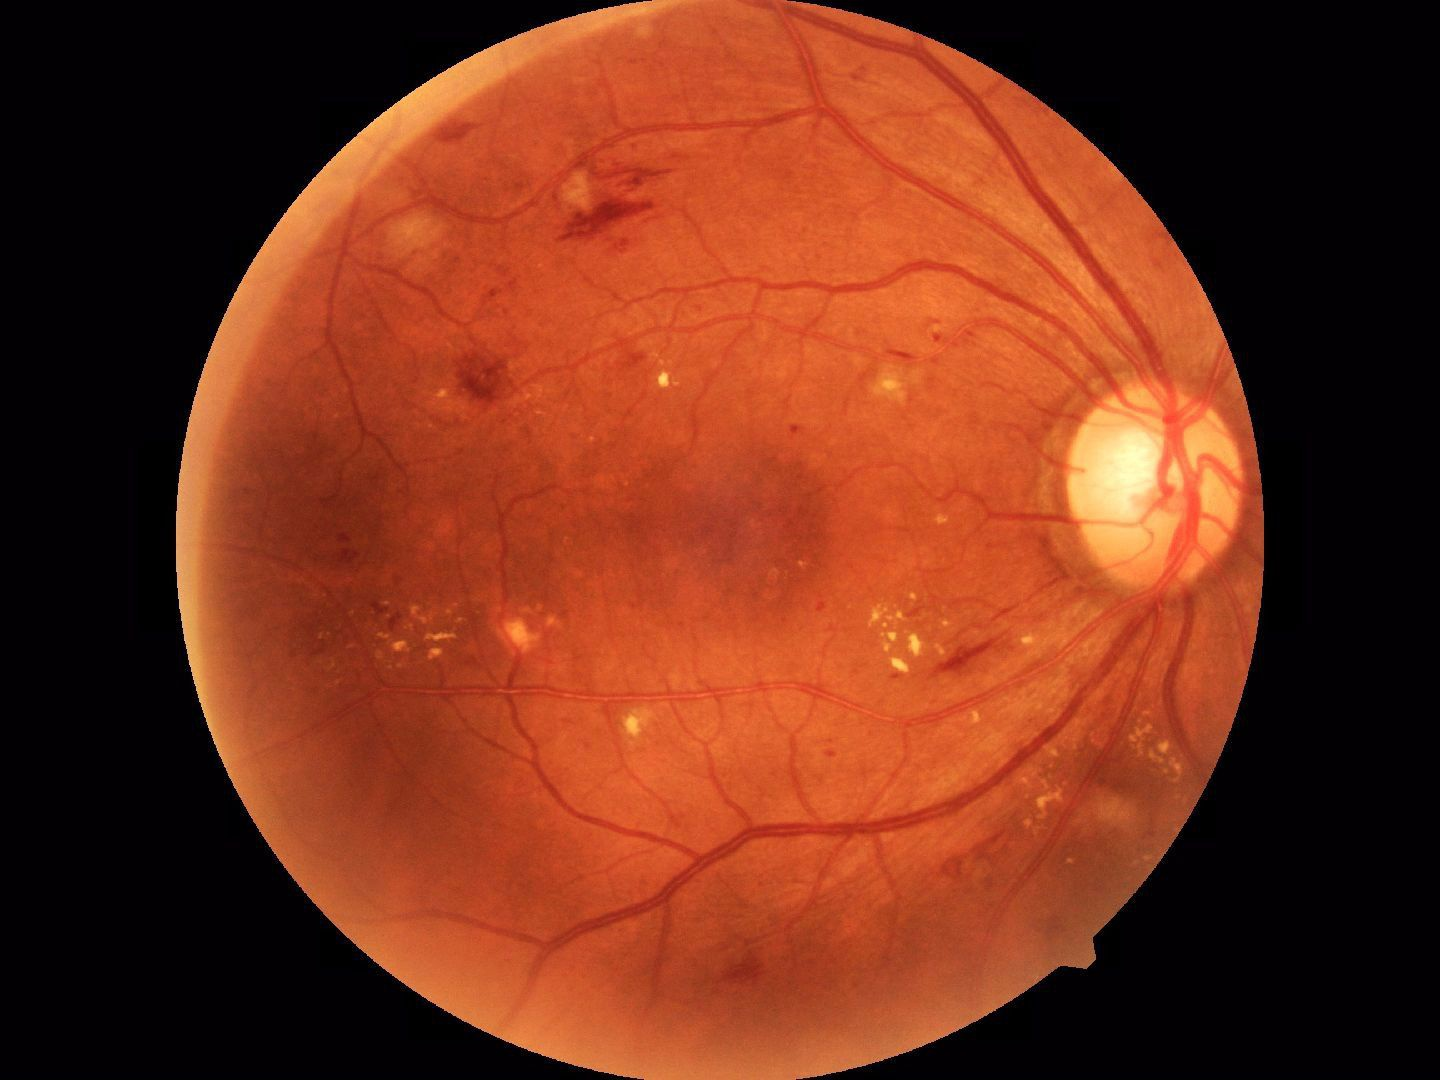Exudates: (358, 594, 467, 663), (878, 584, 952, 681), (1126, 715, 1180, 784), (500, 606, 554, 663)
Microaneurysms: (573, 167, 659, 245), (460, 348, 513, 402)
Optic-Disc: (1057, 368, 1240, 606)
Venules: (1013, 133, 1128, 338), (695, 803, 949, 860)
